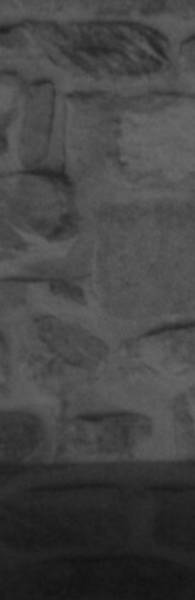water: (0, 463, 195, 600)
